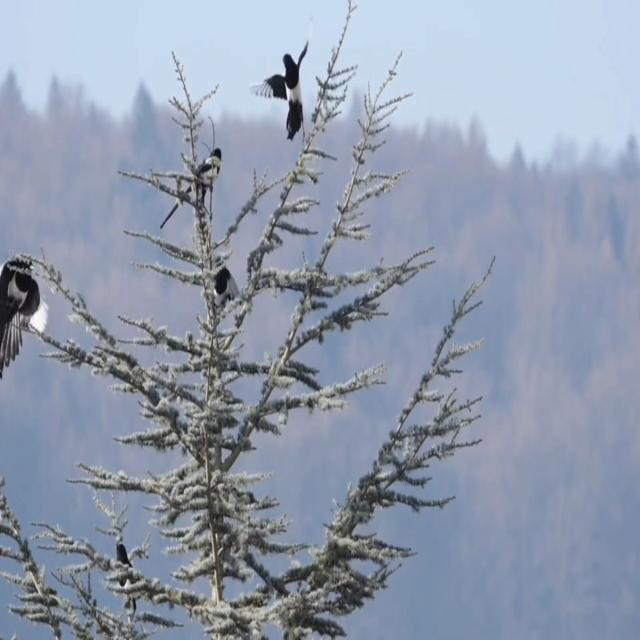bird: (244, 9, 322, 156), (154, 131, 228, 241), (0, 251, 52, 389), (105, 529, 157, 631), (199, 240, 245, 345)
